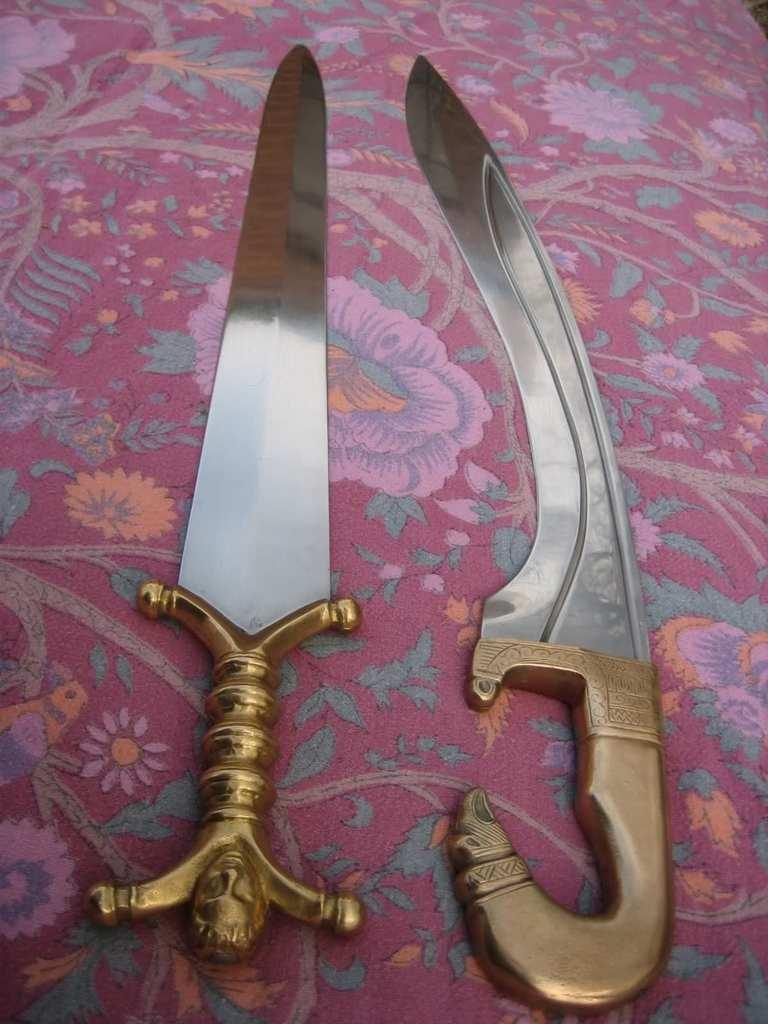knife: (401, 49, 668, 1015), (86, 39, 358, 969)
